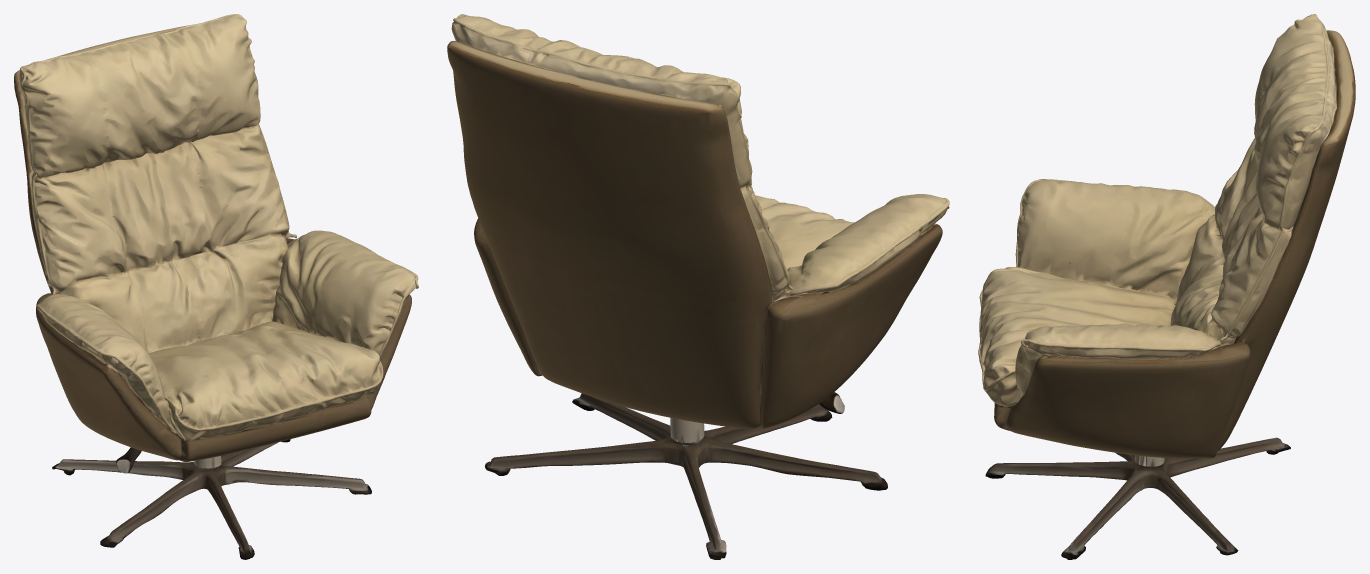
File: chair.glb
The picture shows the model from 3 angles, left to right: view 1: azimuth 30°, elevation 25°; view 2: azimuth 150°, elevation 25°; view 3: azimuth 270°, elevation 25°; orthographic projection. The views are drawn at different scales.
Visible parts, largest first — view 1: tripo_node_7363394d-4330-42a6-b9cc-e7c5a7cca797; view 2: tripo_node_7363394d-4330-42a6-b9cc-e7c5a7cca797; view 3: tripo_node_7363394d-4330-42a6-b9cc-e7c5a7cca797.
Part boxes in pixels (<box>): tripo_node_7363394d-4330-42a6-b9cc-e7c5a7cca797: <box>14,14,418,559</box>; tripo_node_7363394d-4330-42a6-b9cc-e7c5a7cca797: <box>447,14,949,559</box>; tripo_node_7363394d-4330-42a6-b9cc-e7c5a7cca797: <box>978,14,1355,559</box>.
Bounding box in the file's own units: 0.8167 × 0.9787 × 0.7863.
1 material, 1 textured.
